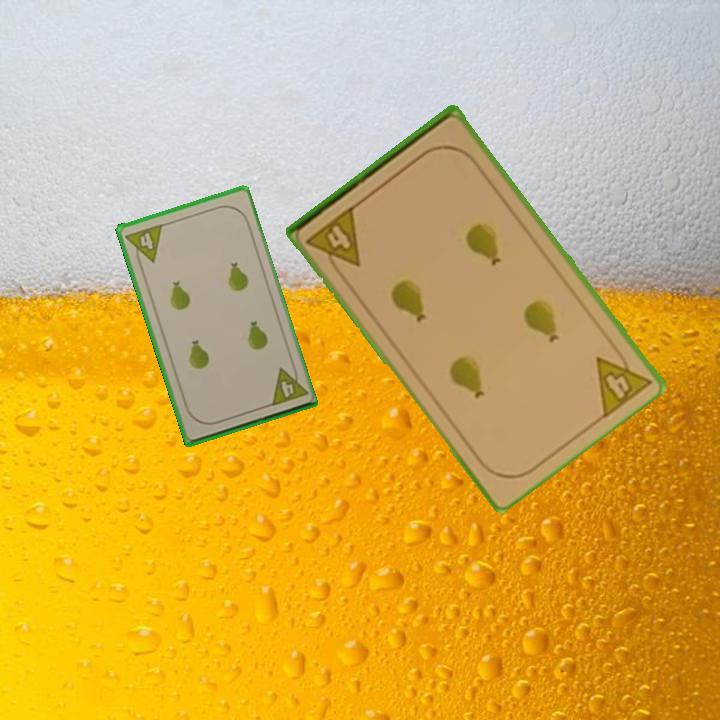4p: (592, 338, 654, 421), (303, 202, 364, 279), (122, 220, 165, 269), (266, 361, 309, 409)
